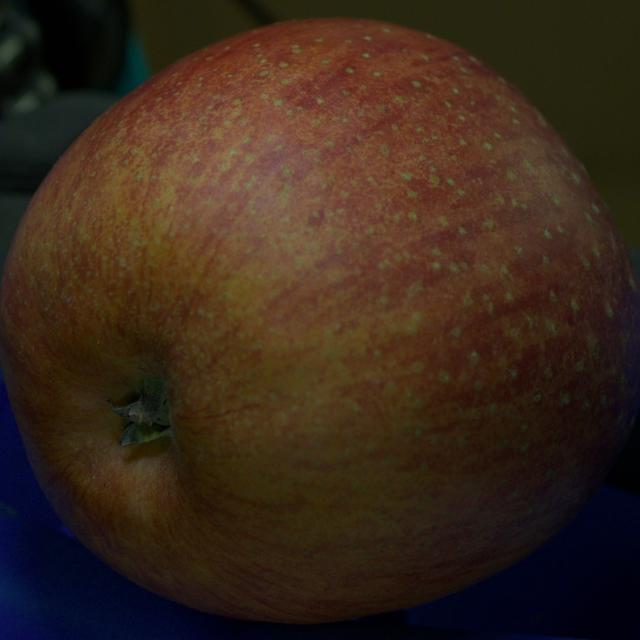apple: (0, 19, 639, 622)
